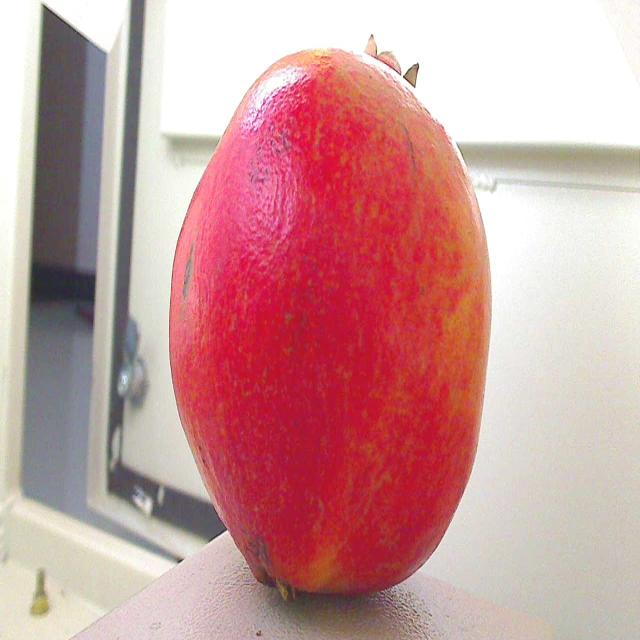pomegranate: (159, 20, 509, 624)
